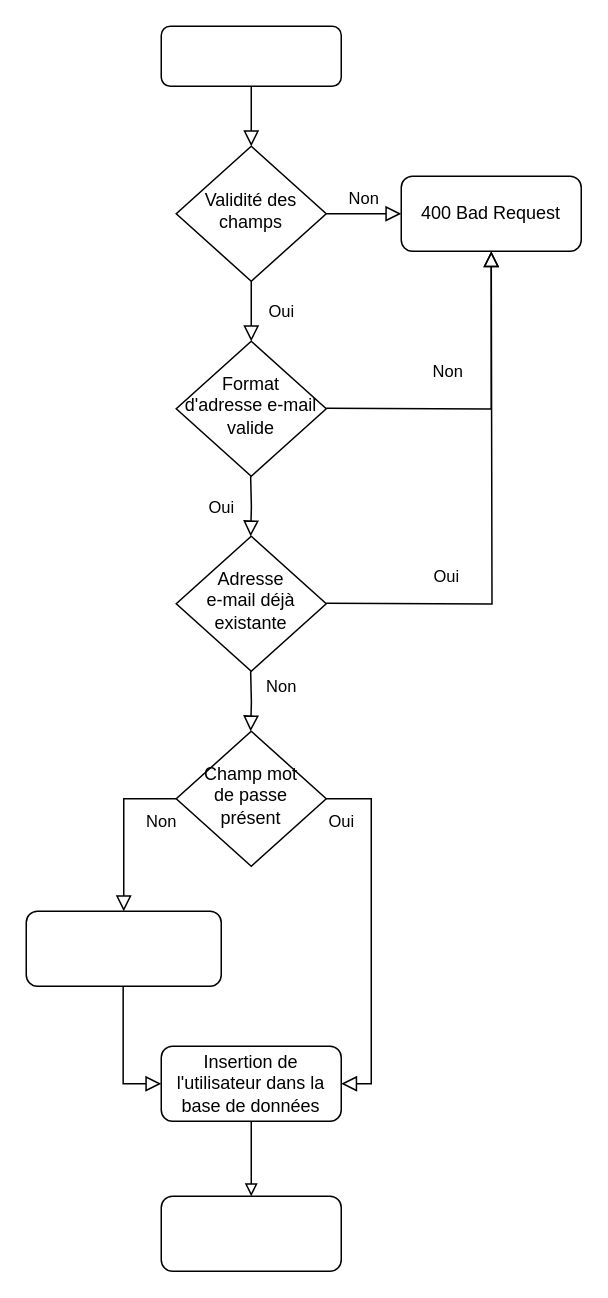
This 608x1298 diagram has some shape labels left out. The shapes that lost their labels are listed below. From the top down, each one's centre as x and y in pixels, then its label:
the point at 250,55: POST api/v1/users
the point at 123,948: Envoie d'un e-mail avec mot de passe aléatoire à l'utilisateur
the point at 250,1233: 201 Created Avec résultat en JSON
